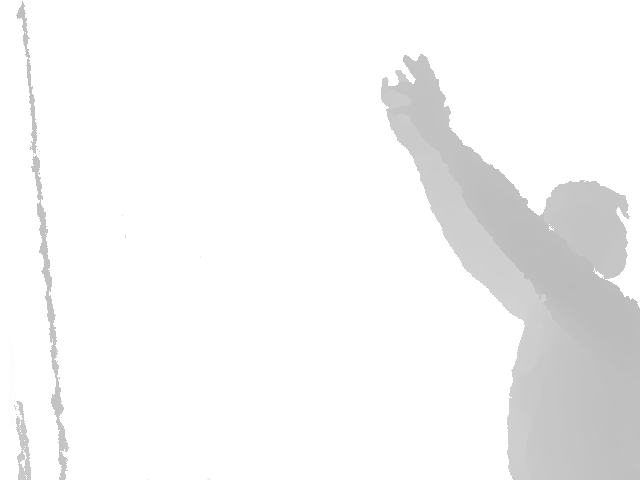hand: (394, 54, 453, 132), (380, 76, 436, 144)
head: (538, 179, 629, 302)
person: (379, 55, 640, 480)
